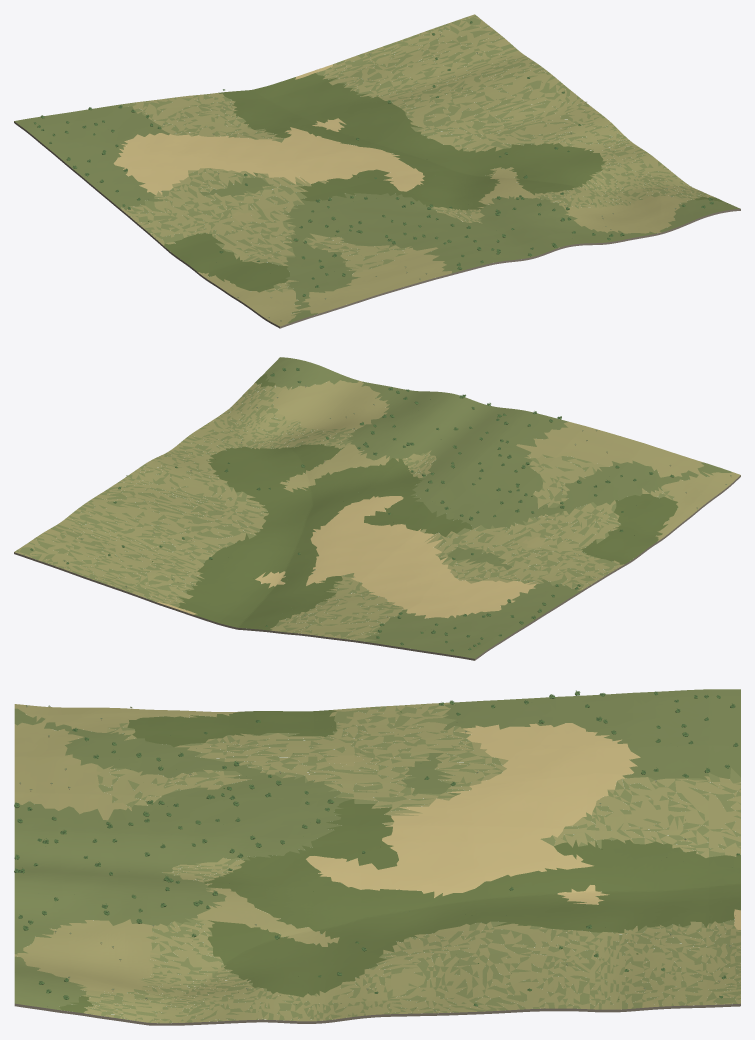
The model's file is parca_+2_-4-yakin.glb.
The picture shows the model from 3 angles, top to bottom: view 1: azimuth 30°, elevation 25°; view 2: azimuth 150°, elevation 25°; view 3: azimuth 270°, elevation 25°; orthographic projection. The views are drawn at different scales.
Visible parts, largest first — view 1: parca_+2_-4_arazi, parca_+2_-4_bitkiler; view 2: parca_+2_-4_arazi, parca_+2_-4_bitkiler; view 3: parca_+2_-4_arazi, parca_+2_-4_bitkiler.
Boxes of the visible parts, x1,y1,x2,y2 form: parca_+2_-4_arazi: (14, 14, 740, 328); parca_+2_-4_bitkiler: (34, 21, 727, 321); parca_+2_-4_arazi: (14, 357, 740, 660); parca_+2_-4_bitkiler: (30, 368, 731, 651); parca_+2_-4_arazi: (14, 689, 740, 1025); parca_+2_-4_bitkiler: (14, 690, 740, 1012).
Bounding box in the file's own units: 1003 × 69.82 × 1001.
